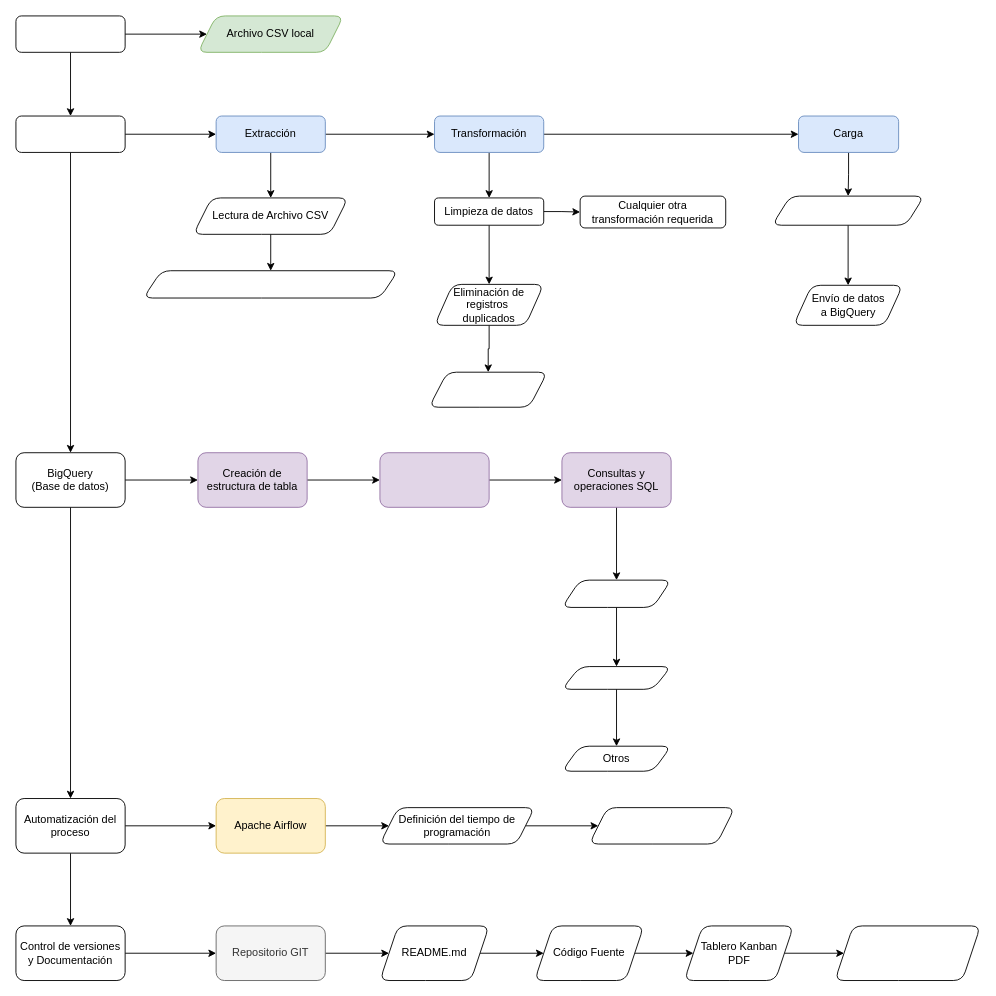
This 996x996 diagram has some shape labels left out. Here are the shapes that lost their labels. From the top down, the box of each, then its label:
(15, 15, 125, 52): Fuente de dato
(15, 115, 125, 152): Proceso ETL con Python
(771, 195, 924, 225): Preparación de datos para BigQuery
(142, 270, 398, 298): Carga de datos en DataFrame (pandas)
(428, 371, 547, 407): Completar valores nulos
(379, 452, 489, 507): Ingesta de Datos
(561, 579, 671, 607): Segmentación
(561, 666, 671, 689): Agrupación
(588, 807, 735, 844): Ejecución de Script en Python
(834, 925, 981, 981): Registro de Cambios y versiones
